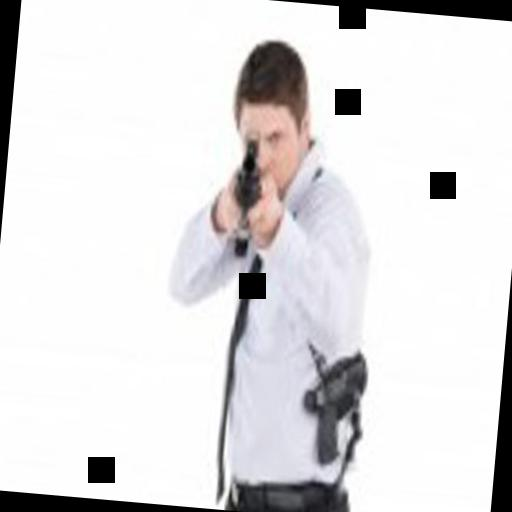Handgun: (286, 333, 372, 462)
